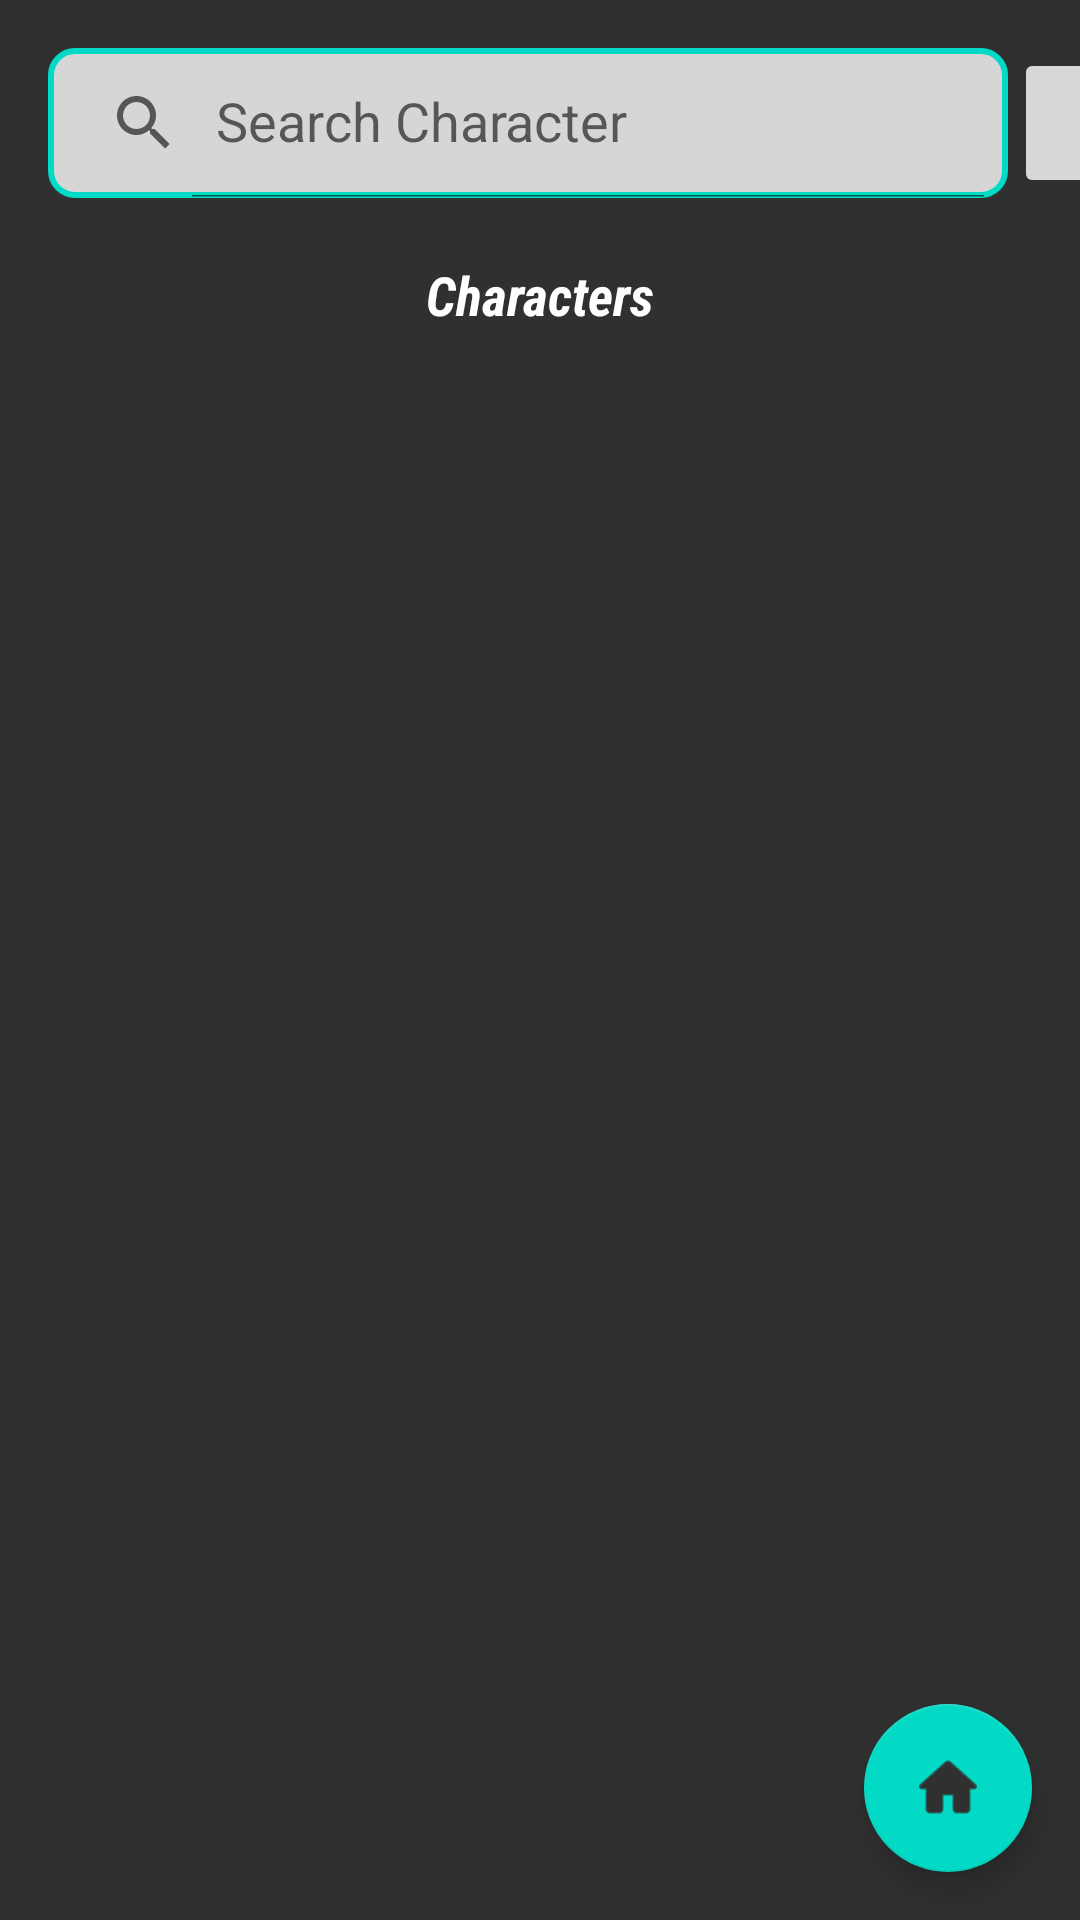

Named icons in this screenshot (1080×1920) and their centers, (x=x, y=y):
home: (x=948, y=1788)
